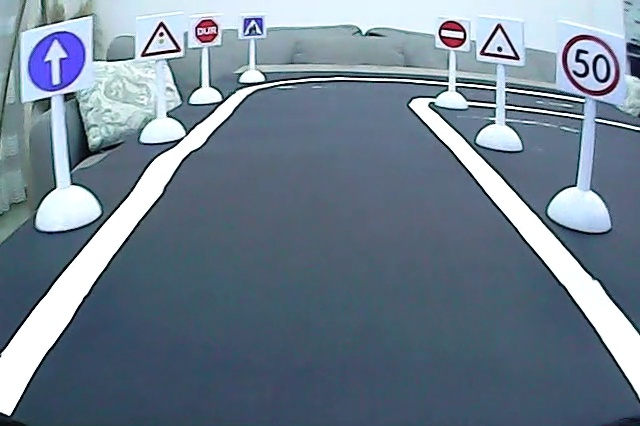do not enter: (438, 18, 468, 49)
green light: (478, 20, 524, 64)
red light: (139, 18, 183, 60)
school crossing: (241, 16, 265, 38)
speed limit 50: (560, 34, 624, 99)
stop sign: (193, 17, 221, 45)
